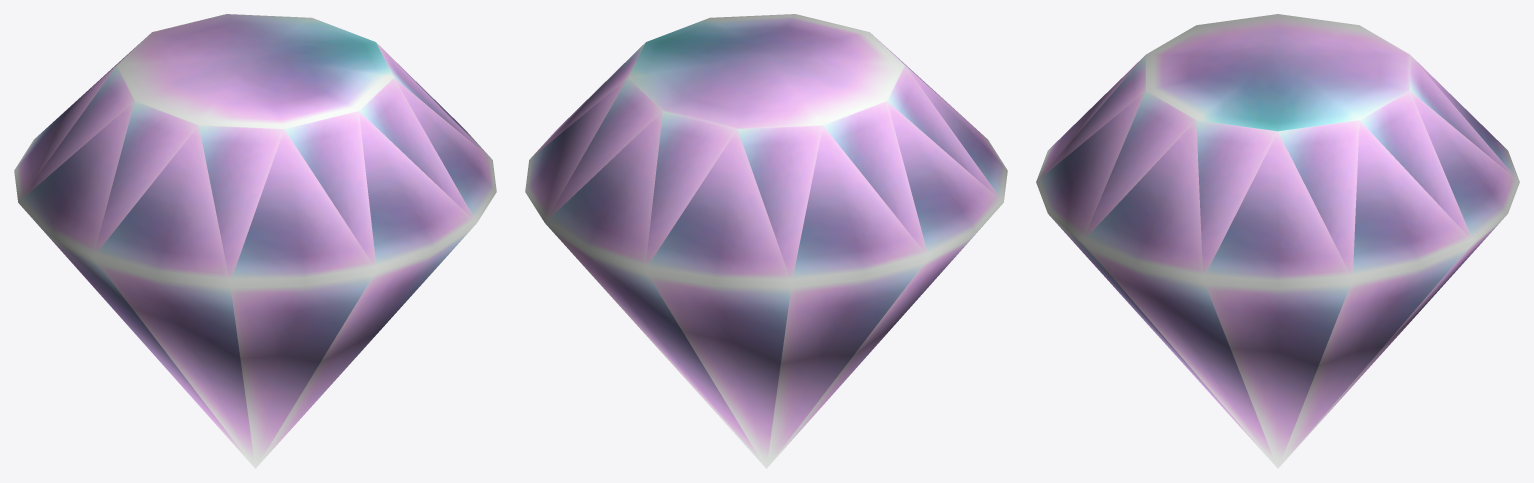
Rendered from diamond.glb.
3 renders of one model, left to right at view 1: azimuth 30°, elevation 25°; view 2: azimuth 150°, elevation 25°; view 3: azimuth 270°, elevation 25°, orthographic.
Parts seen in each view (by area): view 1: diamond; view 2: diamond; view 3: diamond.
Part boxes in pixels (left/top/right/bottom): diamond: left=14, top=14, right=496, bottom=468; diamond: left=525, top=14, right=1007, bottom=468; diamond: left=1036, top=14, right=1519, bottom=468.
Bounding box in the file's own units: 6.15 × 5.78 × 6.15.
Materials: 1 (1 with a texture image).
